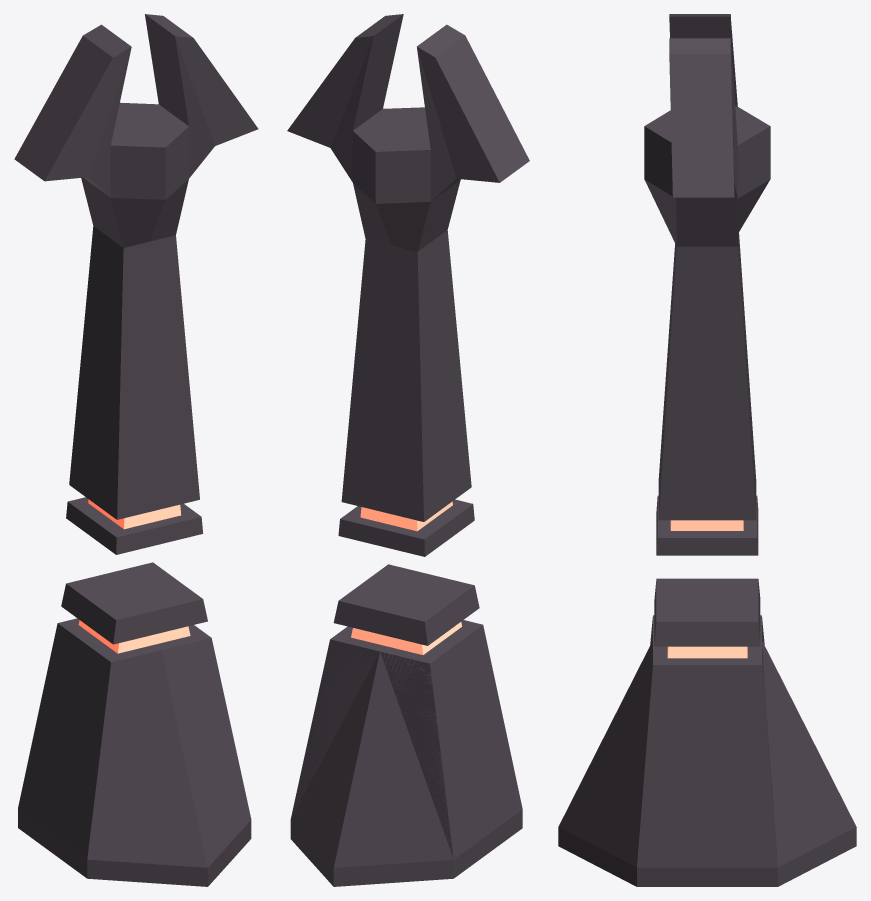
File: enviroment_2.fbx
The picture shows the model from 3 angles, left to right: view 1: azimuth 30°, elevation 25°; view 2: azimuth 150°, elevation 25°; view 3: azimuth 270°, elevation 25°; orthographic projection. The views are drawn at different scales.
Visible parts, largest first — view 1: Cube; view 2: Cube; view 3: Cube.
Boxes of the visible parts, box(x1,y1,x2,y2) form: Cube: box(14, 14, 258, 886); Cube: box(287, 14, 529, 886); Cube: box(558, 14, 856, 886).
Bounding box in the file's own units: 1028 × 3696 × 1220.
